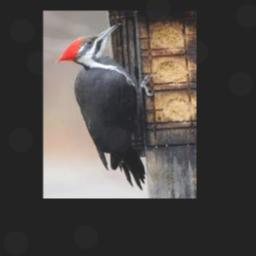Woodpecker: (55, 22, 154, 189)
